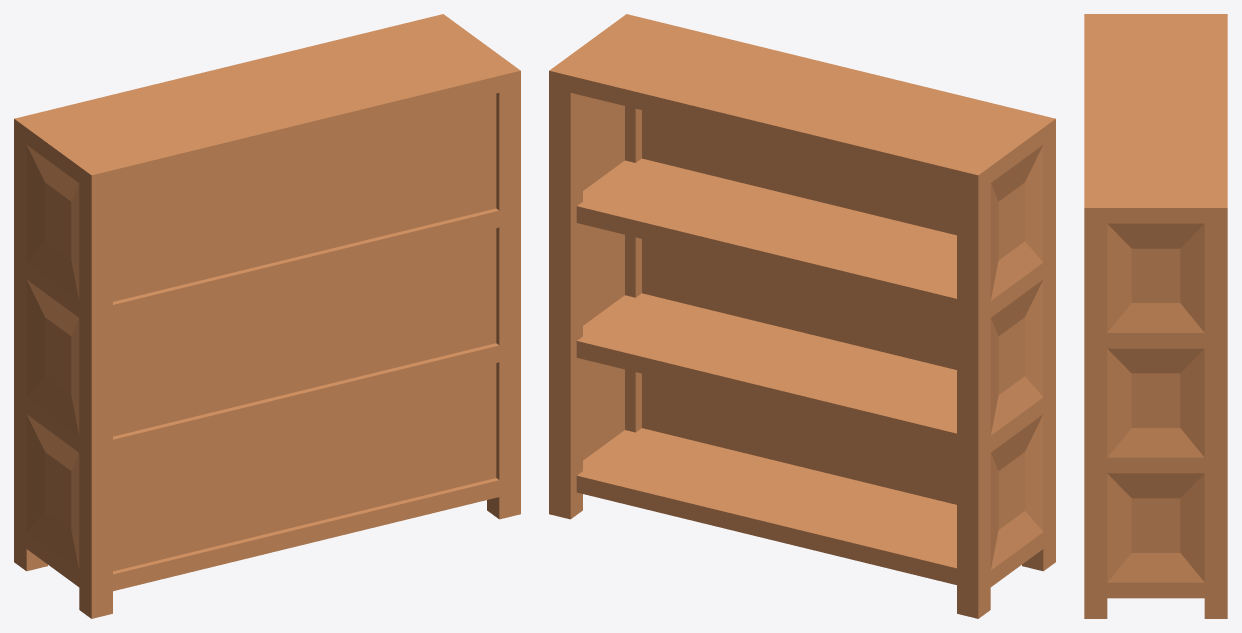
File: BookcaseClosedWide.glb
The picture shows the model from 3 angles, left to right: view 1: azimuth 30°, elevation 25°; view 2: azimuth 150°, elevation 25°; view 3: azimuth 270°, elevation 25°; orthographic projection. The views are drawn at different scales.
Parts seen in each view (by area): view 1: BookcaseClosedWide; view 2: BookcaseClosedWide; view 3: BookcaseClosedWide.
Boxes of the visible parts, left/top/right/bottom form: BookcaseClosedWide: left=14, top=14, right=520, bottom=618; BookcaseClosedWide: left=549, top=14, right=1055, bottom=618; BookcaseClosedWide: left=1084, top=14, right=1227, bottom=618.
Size of the model in its own units: 1.47 by 1.46 by 0.4607.
